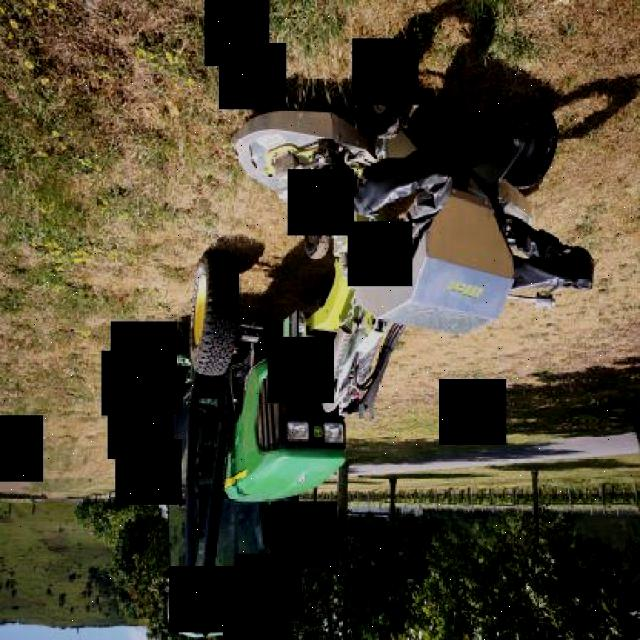Tratores - v5 YOLO V8L 2024-11-13: (142, 250, 350, 638)
